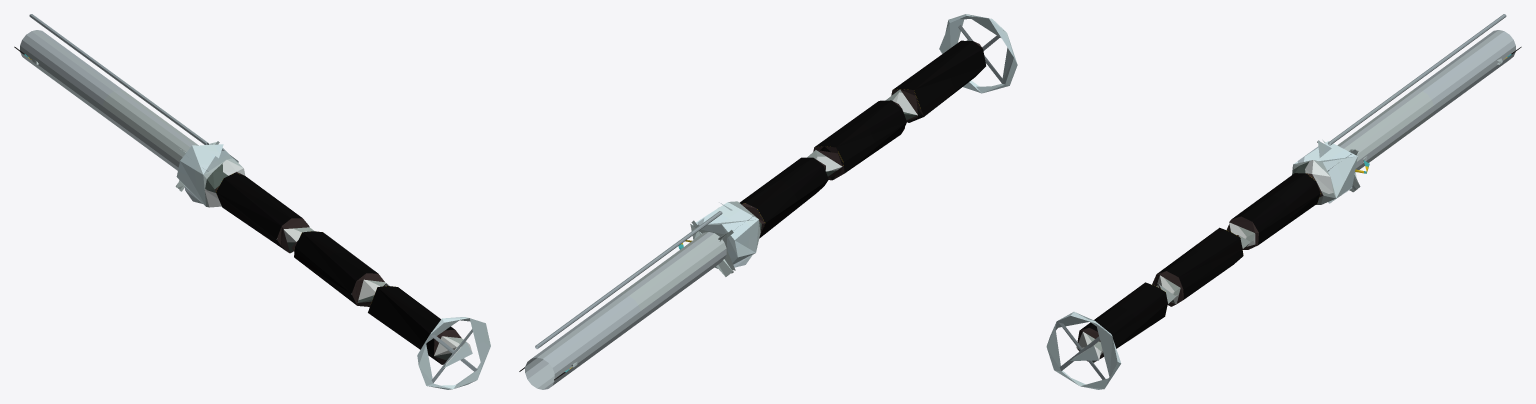
The model's file is pt-11m00000002954785-geode.glb.
3 views of the same model, side by side, from view 1: azimuth 30°, elevation 25°; view 2: azimuth 150°, elevation 25°; view 3: azimuth 330°, elevation 25° (orthographic). The views are drawn at different scales.
Visible parts, largest first — view 1: Node; view 2: Node; view 3: Node.
Boxes of the visible parts, x1,y1,x2,y2 form: Node: (14,14,490,389); Node: (519,14,1017,389); Node: (1046,14,1521,389).
Bounding box in the file's own units: 1.01 × 0.973 × 10.21.
Materials: 1 (1 with a texture image).
